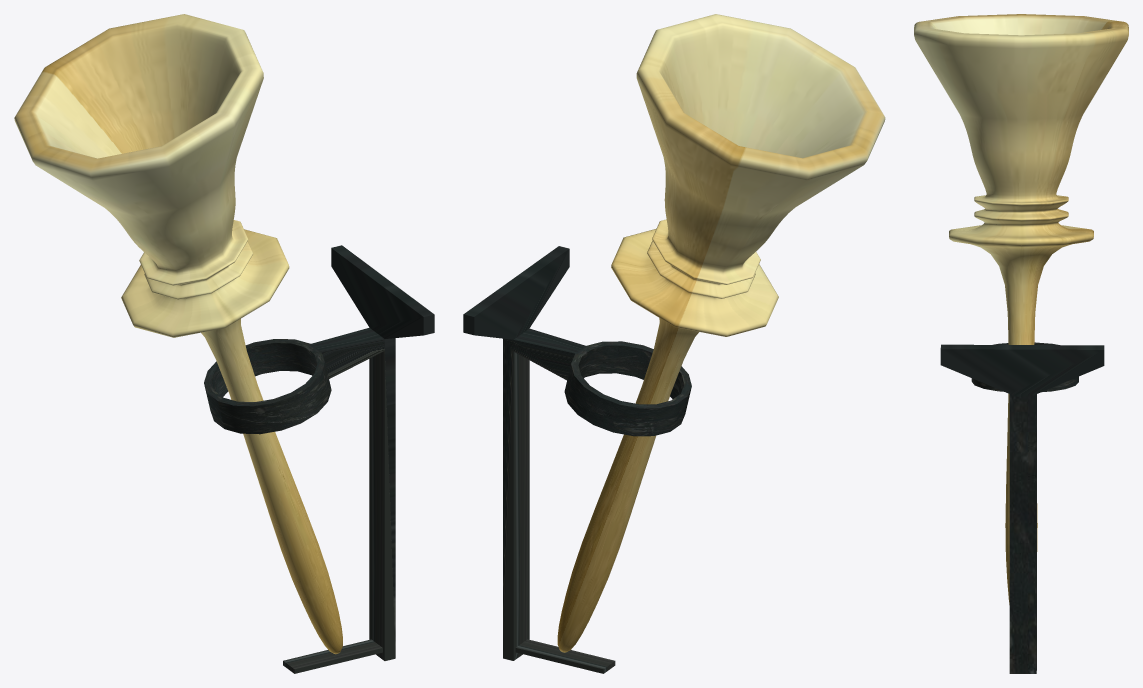
File: firecup.FBX
3 renders of one model, left to right at view 1: azimuth 30°, elevation 25°; view 2: azimuth 150°, elevation 25°; view 3: azimuth 270°, elevation 25°, orthographic. The views are drawn at different scales.
Parts seen in each view (by area): view 1: Line001, Tube001; view 2: Line001, Tube001; view 3: Line001, Tube001.
Part boxes in pixels (bbox=[...]): Line001: bbox=[14, 14, 342, 654]; Tube001: bbox=[204, 245, 434, 673]; Line001: bbox=[557, 14, 885, 652]; Tube001: bbox=[463, 246, 691, 673]; Line001: bbox=[914, 14, 1128, 604]; Tube001: bbox=[940, 342, 1104, 673].
Bounding box in the file's own units: 87.5 × 154 × 52.42.
2 materials, 2 textured.
